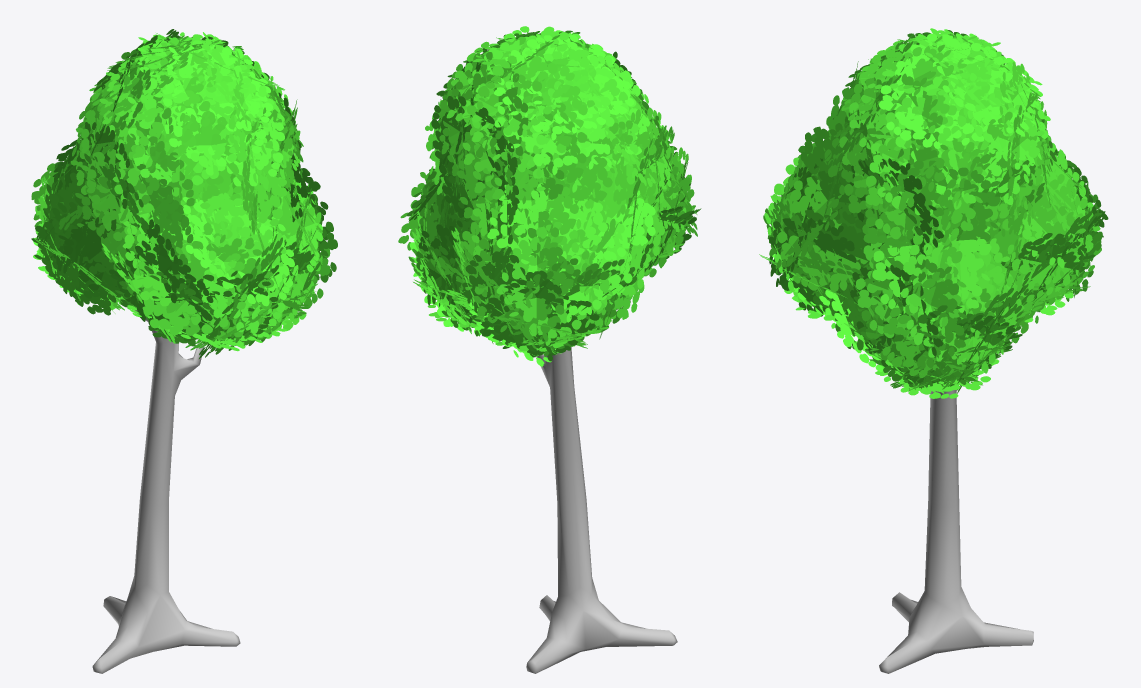
The model's file is Tree J 1.fbx.
The picture shows the model from 3 angles, left to right: view 1: azimuth 30°, elevation 25°; view 2: azimuth 150°, elevation 25°; view 3: azimuth 270°, elevation 25°; orthographic projection. The views are drawn at different scales.
Parts seen in each view (by area): view 1: Tree J 1 LOD 0; view 2: Tree J 1 LOD 0; view 3: Tree J 1 LOD 0.
Part boxes in pixels (x1,y1,x2,y2): Tree J 1 LOD 0: [31, 29, 337, 673]; Tree J 1 LOD 0: [398, 26, 701, 673]; Tree J 1 LOD 0: [759, 28, 1108, 673].
Size of what is drawn, in the model's own units: 7.31 by 13.51 by 6.41.
